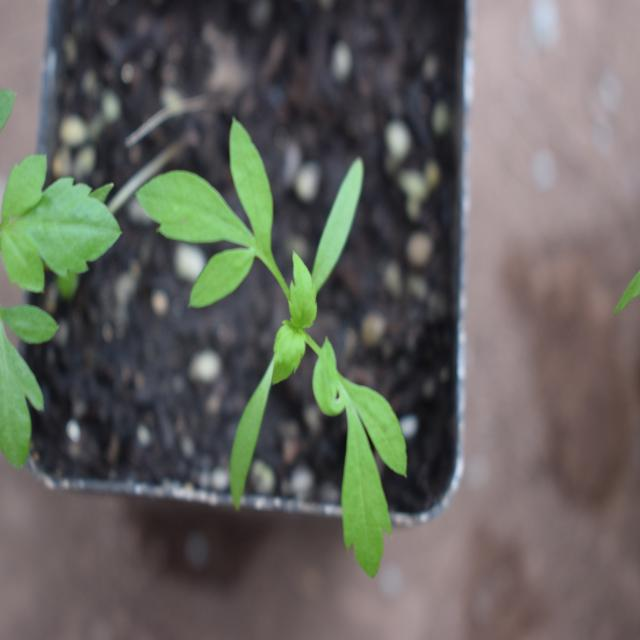Bidens pilosa: (142, 125, 418, 564)
